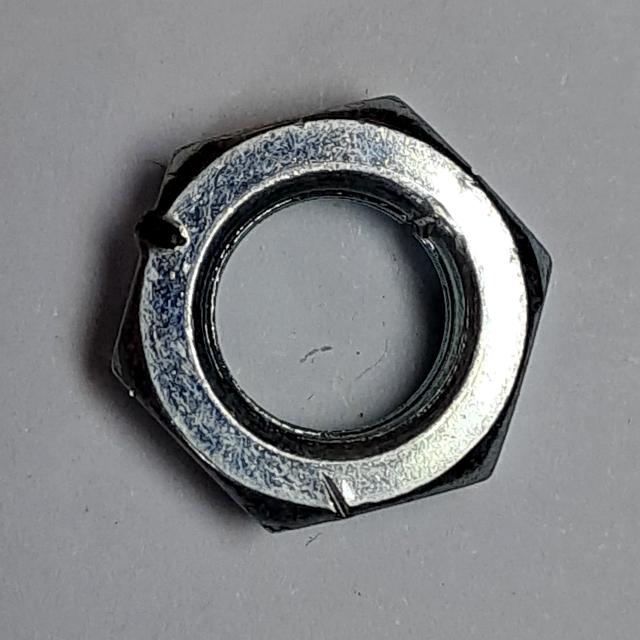Scratches: (92, 87, 563, 550)
